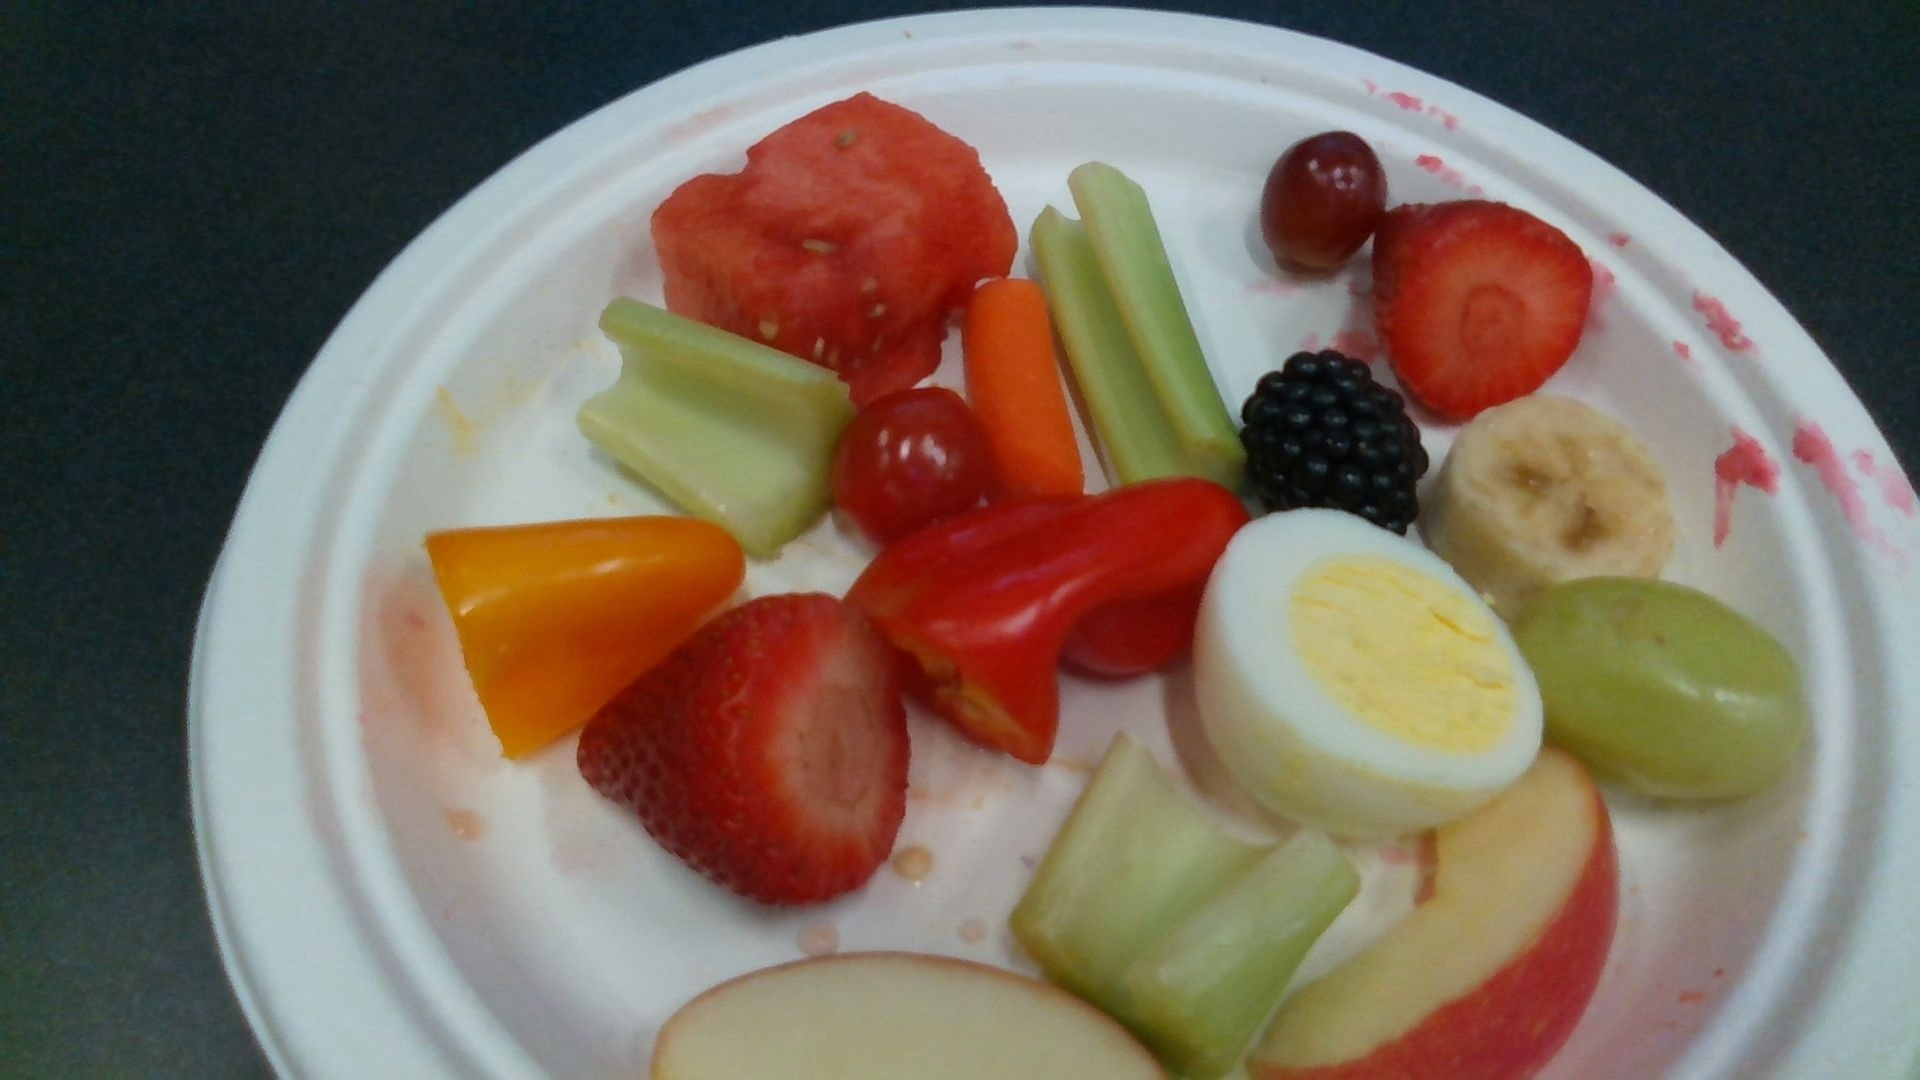apple: (1254, 748, 1617, 1080), (651, 956, 1167, 1080)
banana: (1429, 396, 1665, 605)
bell_pepper: (849, 481, 1245, 761), (425, 520, 742, 758)
blackberry: (1237, 349, 1429, 538)
carrot: (963, 278, 1083, 500)
celery: (1015, 736, 1357, 1069), (579, 301, 852, 563), (1029, 161, 1240, 493)
cherry_tomato: (835, 388, 980, 549)
egg: (1195, 508, 1540, 829)
grape_green: (1510, 576, 1804, 795)
grape_purple: (1265, 133, 1385, 270)
melon: (647, 96, 1017, 401)
strawberry: (579, 589, 907, 901), (1374, 200, 1592, 425)
